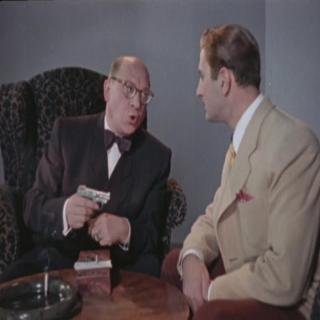gun: (70, 183, 113, 229)
